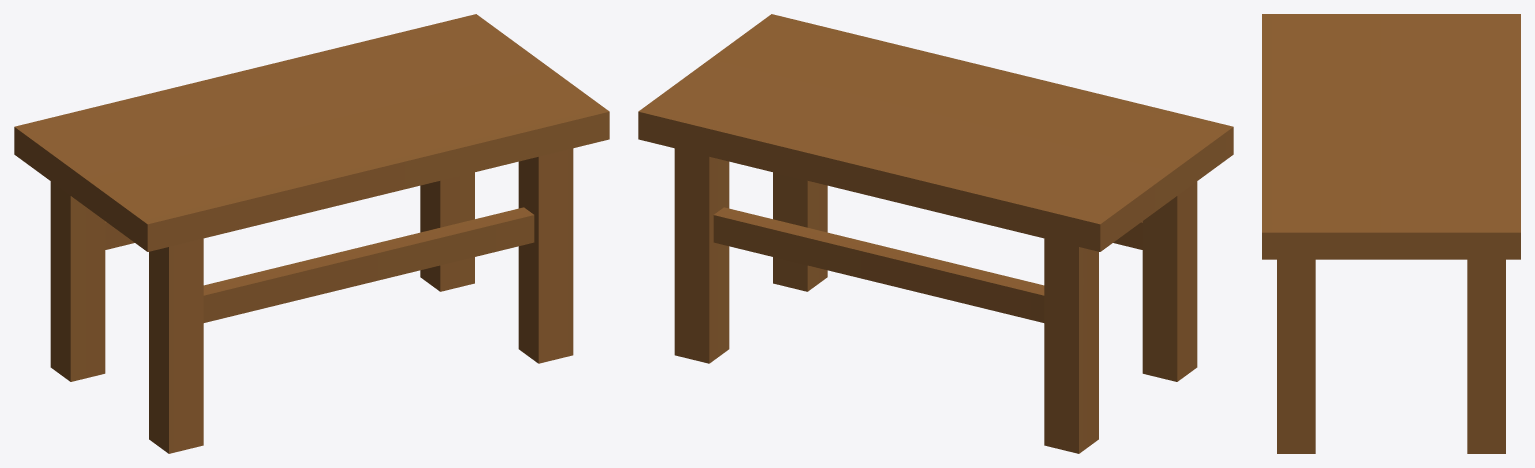
Rendered from Table_01.fbx.
The picture shows the model from 3 angles, left to right: view 1: azimuth 30°, elevation 25°; view 2: azimuth 150°, elevation 25°; view 3: azimuth 270°, elevation 25°; orthographic projection. The views are drawn at different scales.
Visible parts, largest first — view 1: Table_01, Table_Leg, Table_01.002; view 2: Table_01, Table_Leg, Table_01.002; view 3: Table_01, Table_Leg.
Boxes of the visible parts, bbox=[...] form: Table_01: bbox=[14, 14, 609, 251]; Table_Leg: bbox=[50, 148, 573, 453]; Table_01.002: bbox=[105, 207, 534, 322]; Table_01: bbox=[638, 14, 1233, 251]; Table_Leg: bbox=[674, 148, 1197, 453]; Table_01.002: bbox=[713, 207, 1142, 322]; Table_01: bbox=[1262, 14, 1520, 259]; Table_Leg: bbox=[1277, 259, 1505, 453].
Size of the model in its own units: 2 by 1 by 1.
